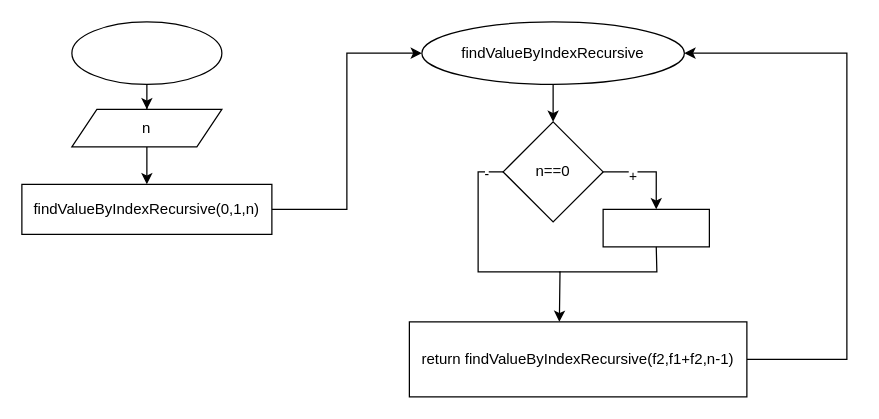
This 879x419 diagram has some shape labels left out. The centre of each missing label's shape, as x and y in pixels:
"findValueByIndex" goes at (146,52).
"return f1" goes at (655,227).
